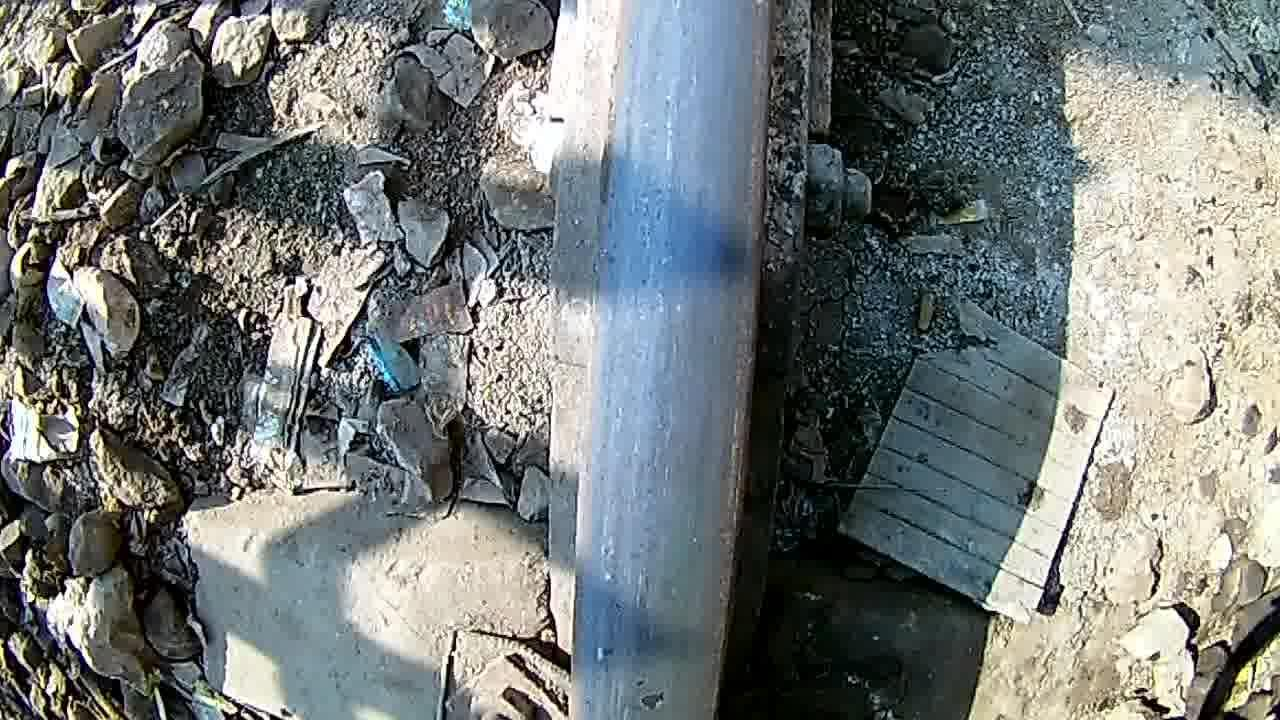crack: (610, 0, 778, 684)
